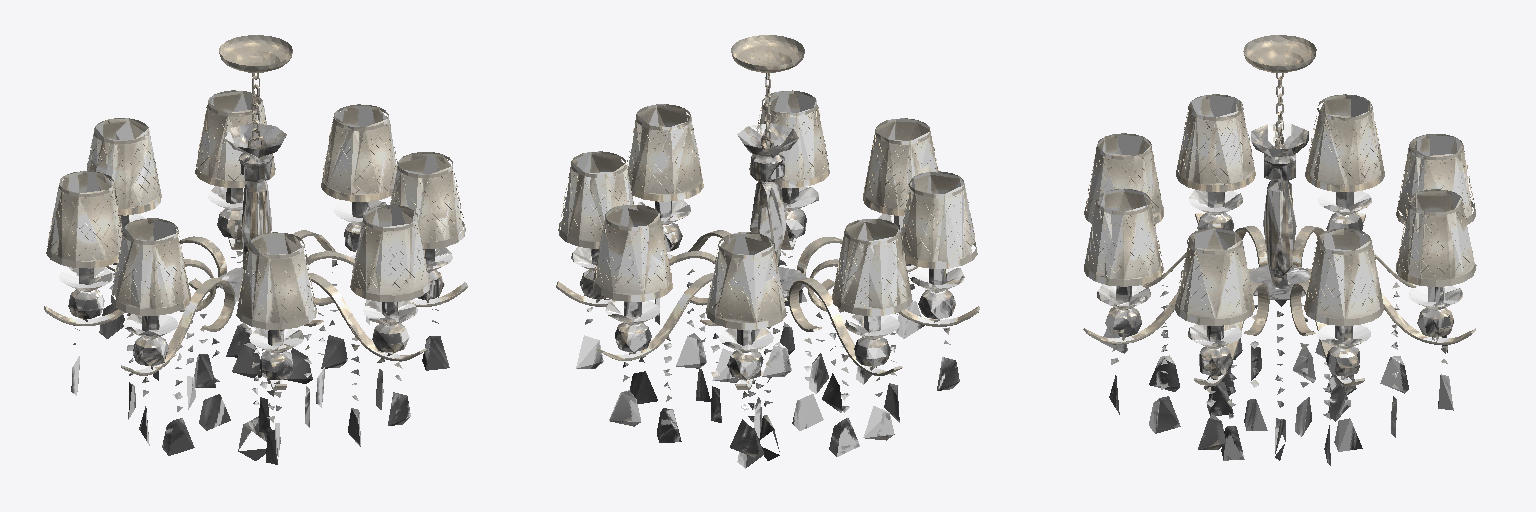
3 renders of one model, left to right at view 1: azimuth 30°, elevation 25°; view 2: azimuth 150°, elevation 25°; view 3: azimuth 270°, elevation 25°, orthographic.
Visible parts, largest first — view 1: solid_001_wire; view 2: solid_001_wire; view 3: solid_001_wire.
Part boxes in pixels (x1,y1,x2,y2): solid_001_wire: (44, 35, 467, 464); solid_001_wire: (556, 35, 979, 468); solid_001_wire: (1083, 35, 1476, 465).
Size of the model in its own units: 0.9613 by 1.09 by 0.9476.
1 materials, 1 textured.